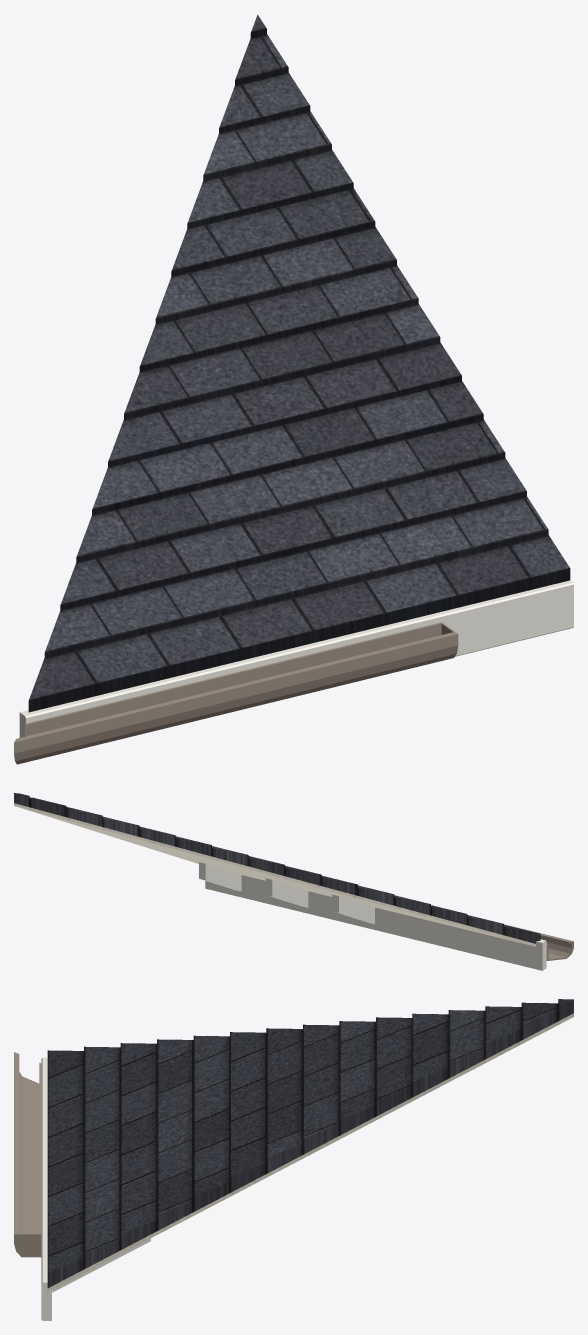
The model's file is roof_main_6_l_porch.glb.
3 views of the same model, one above another, from view 1: azimuth 30°, elevation 25°; view 2: azimuth 150°, elevation 25°; view 3: azimuth 270°, elevation 25° (orthographic). The views are drawn at different scales.
Parts seen in each view (by area): view 1: roof_main_6_l_porch_shingles, roof_main_6_l_porch_gutter, roof_main_6_l_porch_trim; view 2: roof_main_6_l_porch_trim, roof_main_6_l_porch_shingles, roof_main_6_l_porch_plaster, roof_main_6_l_porch_gutter; view 3: roof_main_6_l_porch_shingles, roof_main_6_l_porch_gutter, roof_main_6_l_porch_plaster, roof_main_6_l_porch_trim.
Boxes of the visible parts, <box> form: roof_main_6_l_porch_shingles: <box>28,14,570,712</box>; roof_main_6_l_porch_gutter: <box>14,622,458,764</box>; roof_main_6_l_porch_trim: <box>19,580,573,737</box>; roof_main_6_l_porch_trim: <box>199,862,546,970</box>; roof_main_6_l_porch_shingles: <box>14,793,540,943</box>; roof_main_6_l_porch_plaster: <box>14,803,535,946</box>; roof_main_6_l_porch_gutter: <box>504,924,573,960</box>; roof_main_6_l_porch_shingles: <box>47,999,573,1287</box>; roof_main_6_l_porch_gutter: <box>14,1052,41,1257</box>; roof_main_6_l_porch_plaster: <box>47,1013,573,1291</box>; roof_main_6_l_porch_trim: <box>41,1057,150,1320</box>.
Bounding box in the file's own units: 2.66 × 1.69 × 2.66.
Materials: 4 (2 with a texture image).
